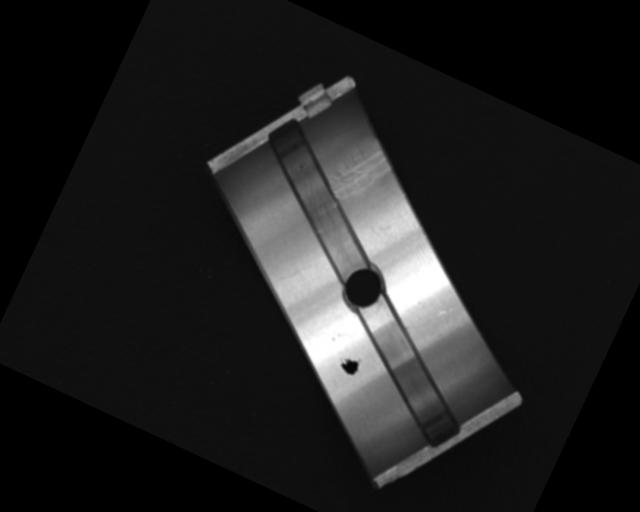blot: (334, 348, 365, 378)
gap: (229, 118, 408, 289), (323, 295, 494, 453)
hole: (338, 261, 390, 315)
nick: (405, 294, 454, 345), (279, 254, 311, 292)
scratch: (323, 130, 398, 213)
